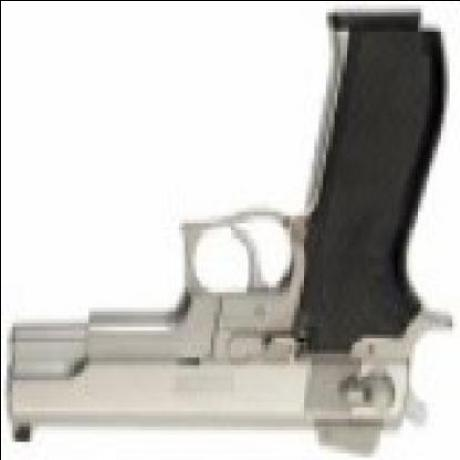weapon: (2, 16, 448, 450)
